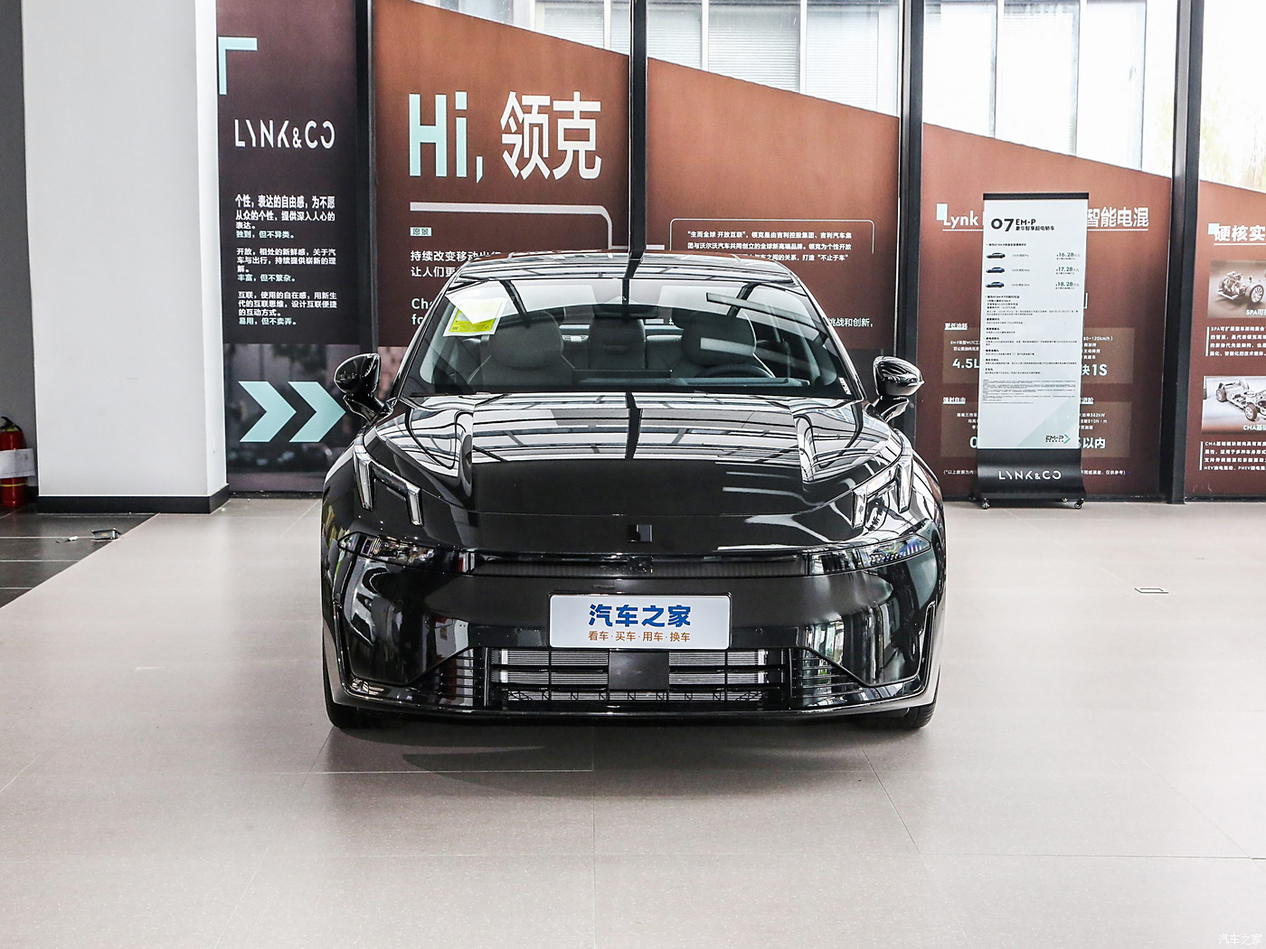LINK&CO: (625, 524, 652, 542)
